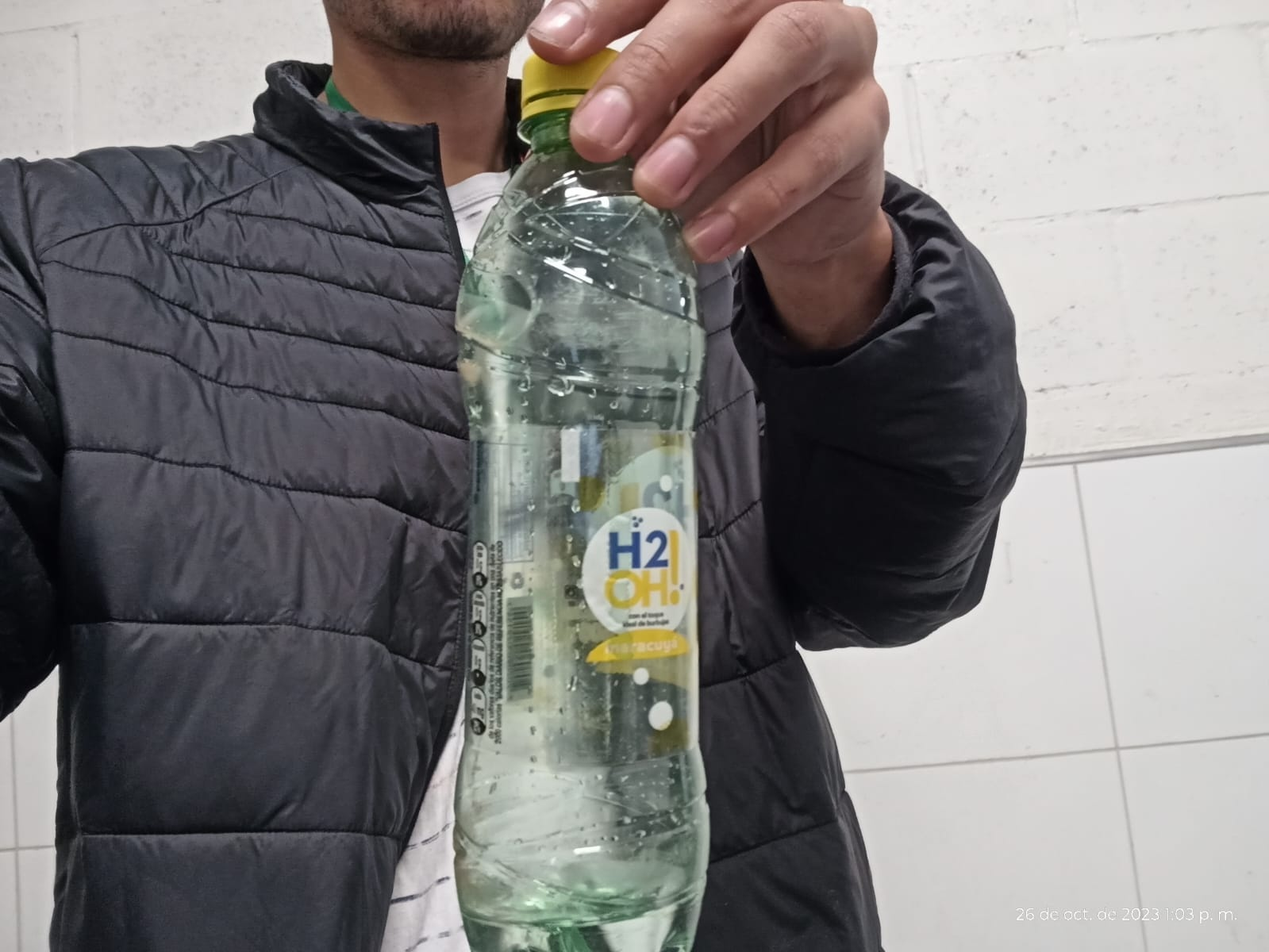Plastico: (454, 45, 709, 952)
